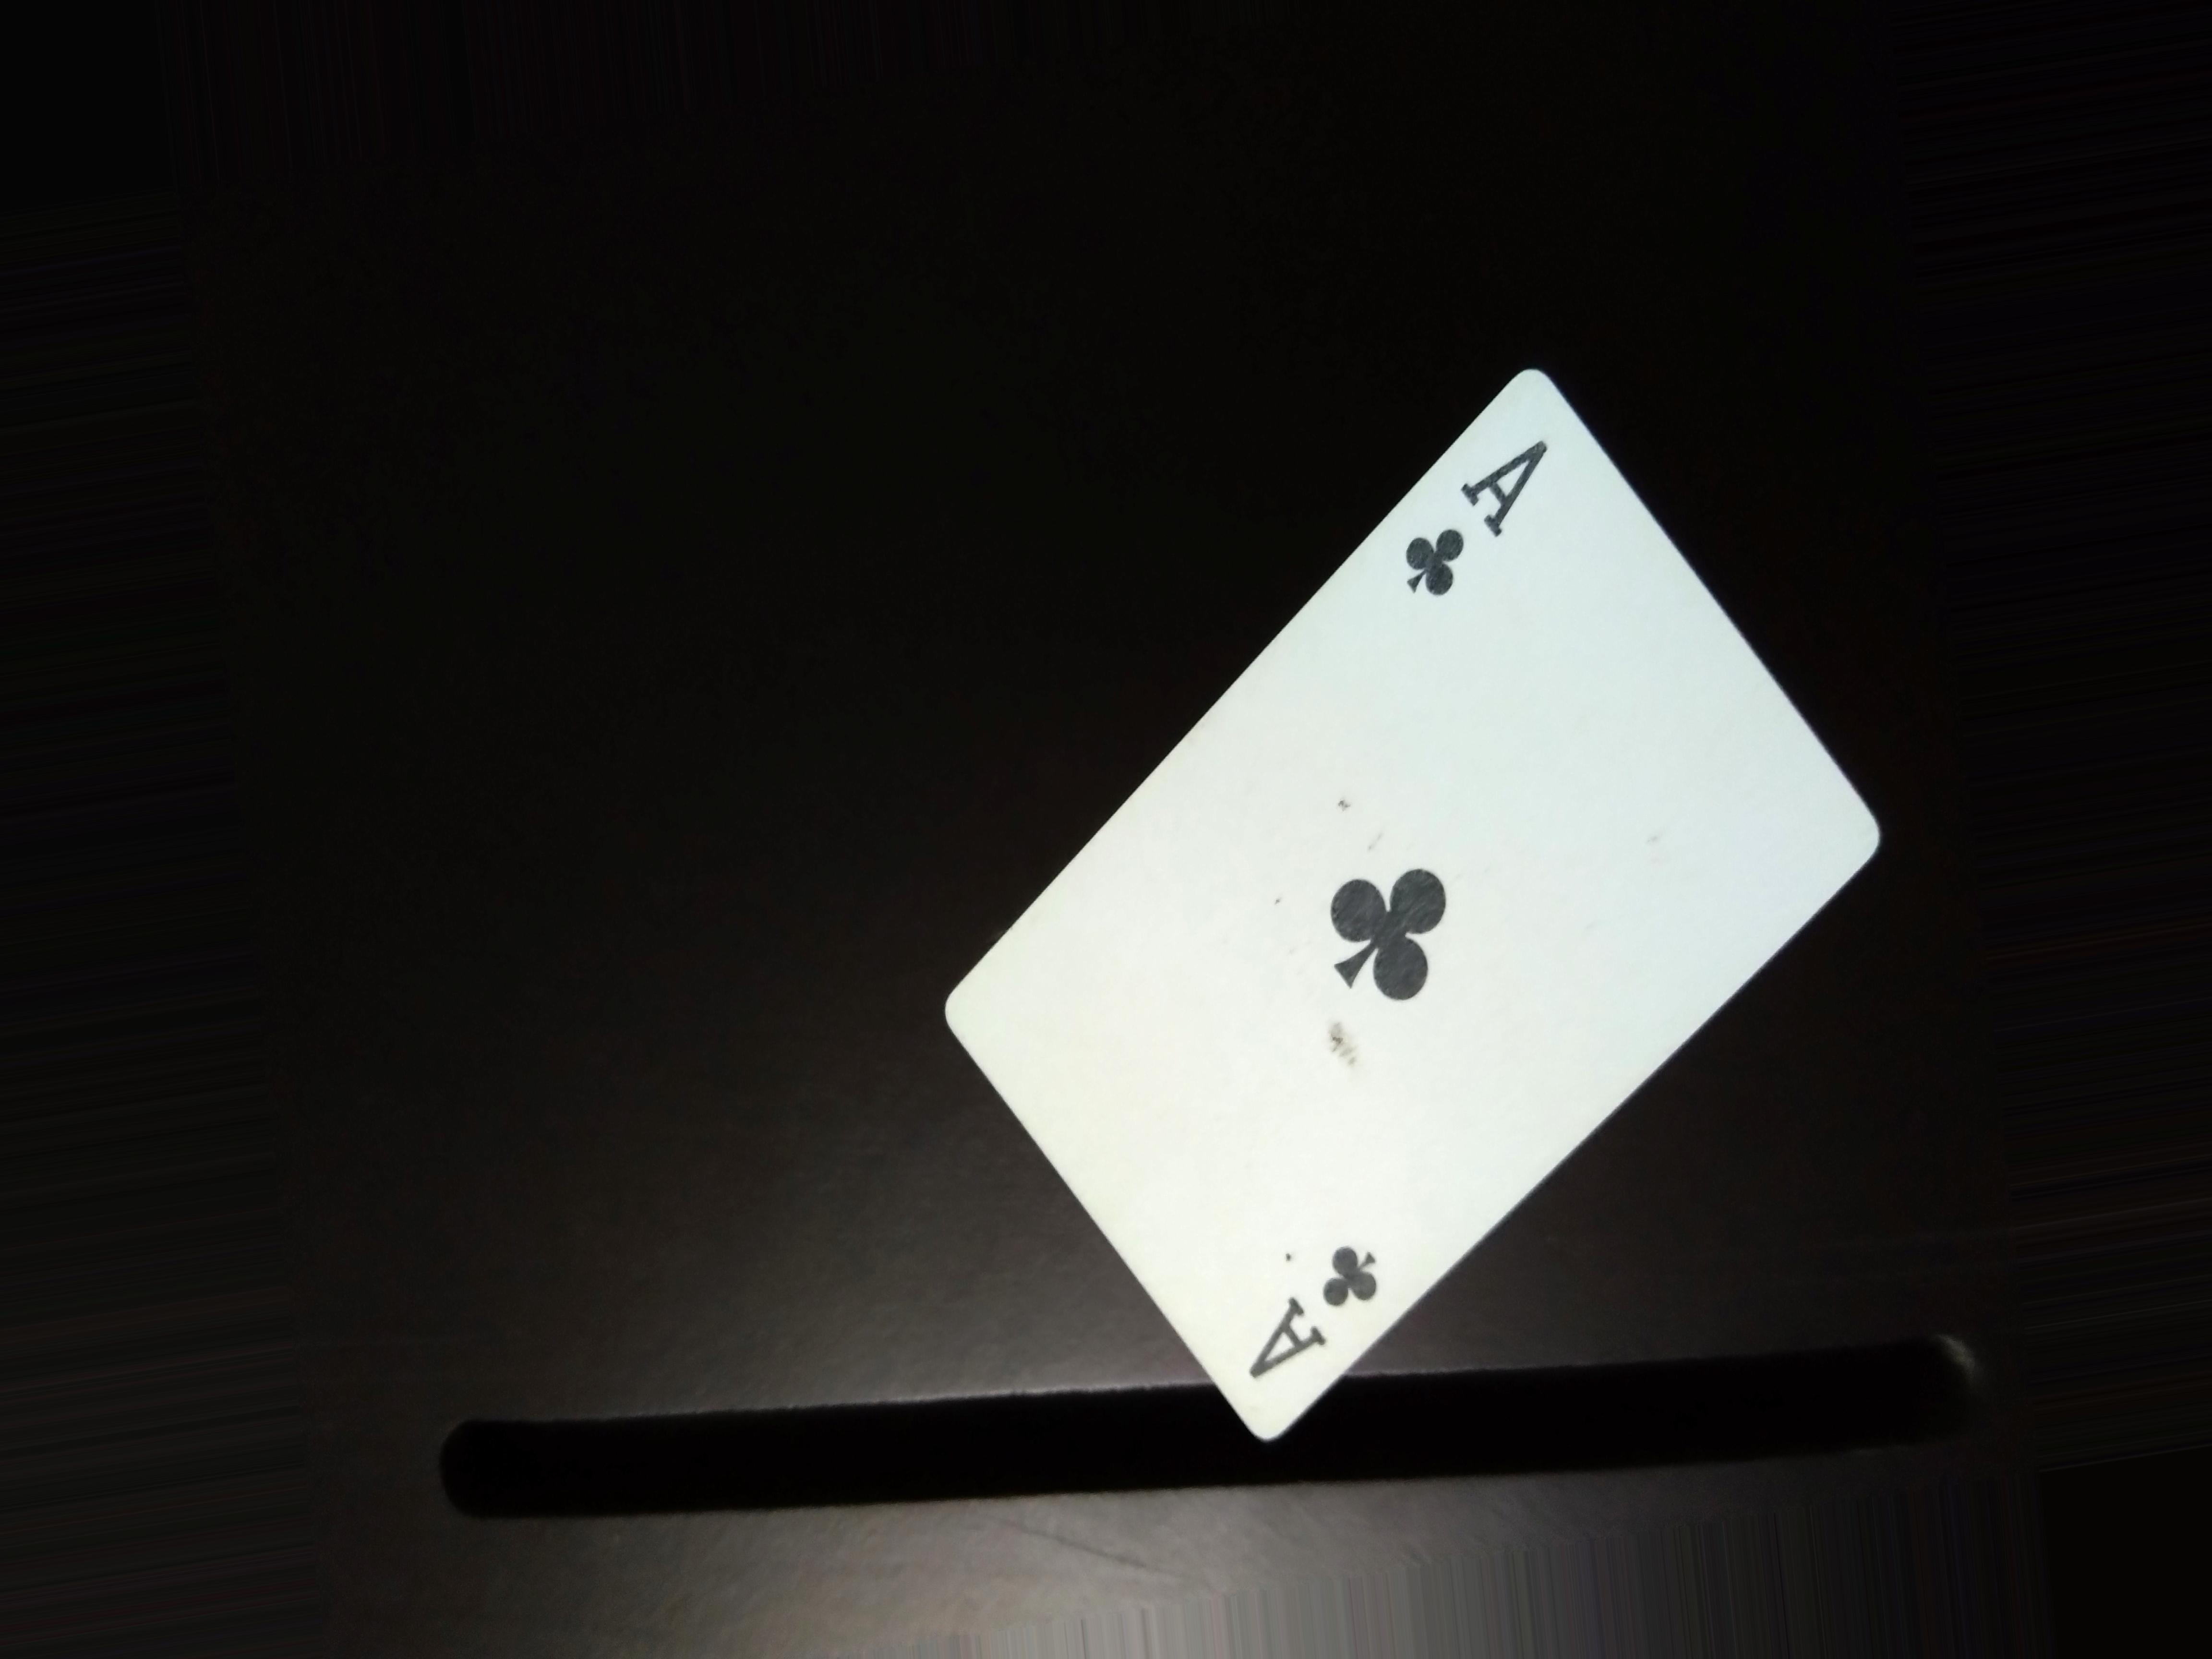AC: (1235, 1223, 1393, 1403)
